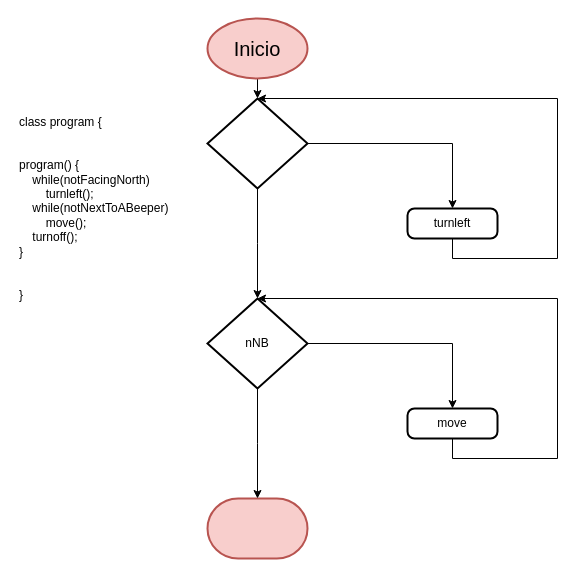
This 583x576 diagram has some shape labels left out. Here are the shapes that lost their labels. From the top down, the box of each, then its label:
(206, 97, 308, 189): nFN
(206, 497, 308, 559): Fin
